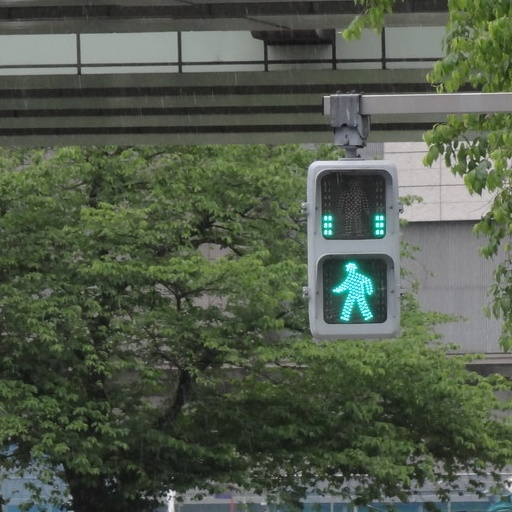Pedestrian_Signal_Blue: (308, 154, 399, 333)
